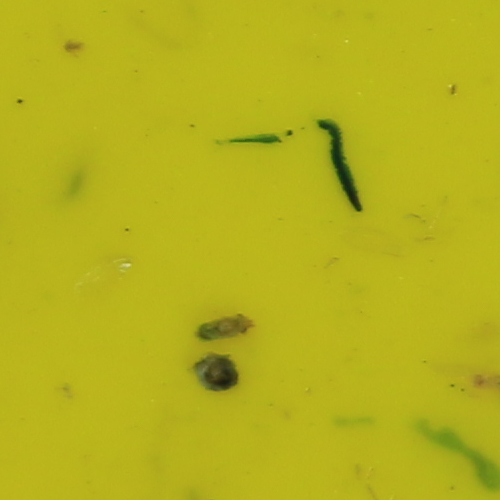Glycaspis: (193, 309, 256, 344)
